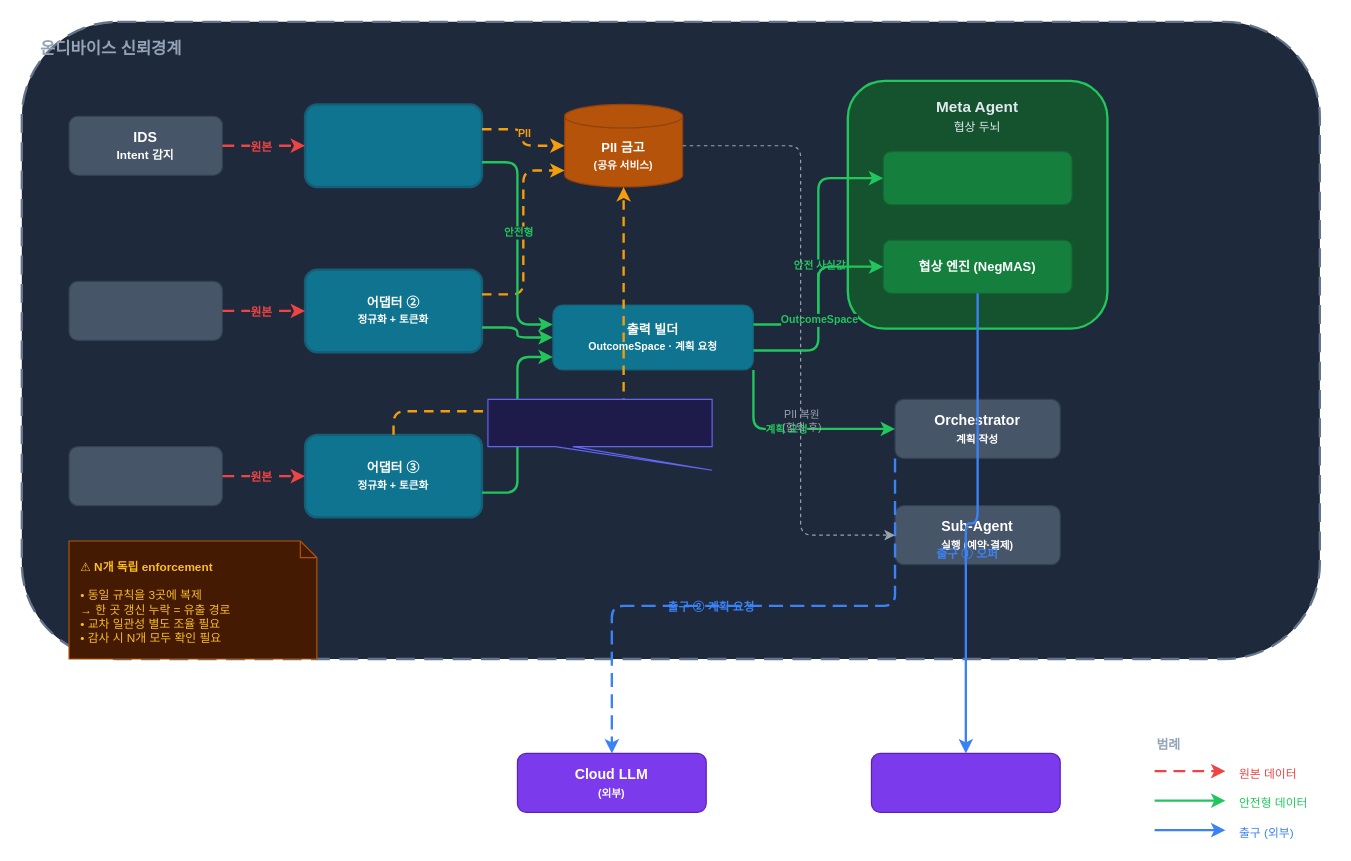
This 1351x861 diagram has some shape labels left out. Here are the shapes that lost their labels. From the top down, the centre of each, then its label:
At (393,145): "어댑터 ① 정규화 + 토큰화".
At (977,177): "ufun 선호 · 유보값 (비공개)".
At (145,310): "Sub-Agent tool 호출 결과".
At (599,434): "출력 빌더는 여전히 중앙 → 완전 분산이 아닌 하이브리드".
At (145,475): "DPA 가전 기기 상태".
At (965,782): "상대 PPA (외부, 불투명)".
